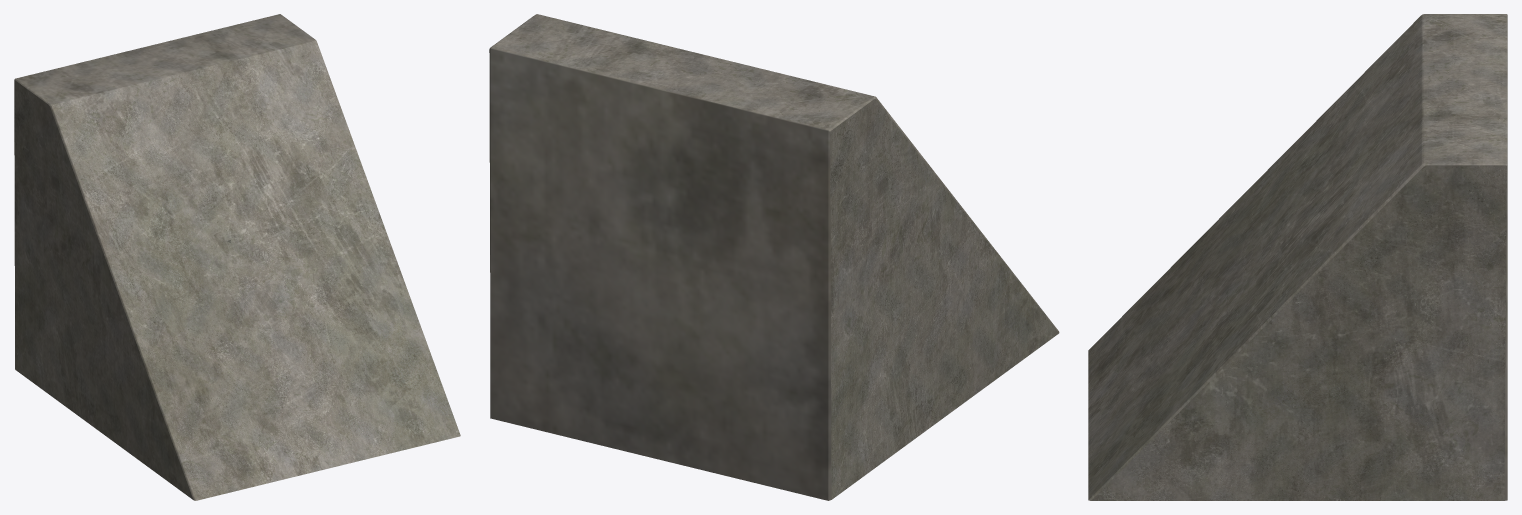
The model's file is Wall.fbx.
3 views of the same model, side by side, from view 1: azimuth 30°, elevation 25°; view 2: azimuth 150°, elevation 25°; view 3: azimuth 270°, elevation 25° (orthographic). The views are drawn at different scales.
Parts seen in each view (by area): view 1: Wall; view 2: Wall; view 3: Wall.
Part boxes in pixels (box(x1,y1,x2,y2)): Wall: box(14, 14, 460, 500); Wall: box(489, 14, 1059, 500); Wall: box(1088, 14, 1507, 500).
Size of the model in its own units: 2.99 by 3.1 by 3.51.
